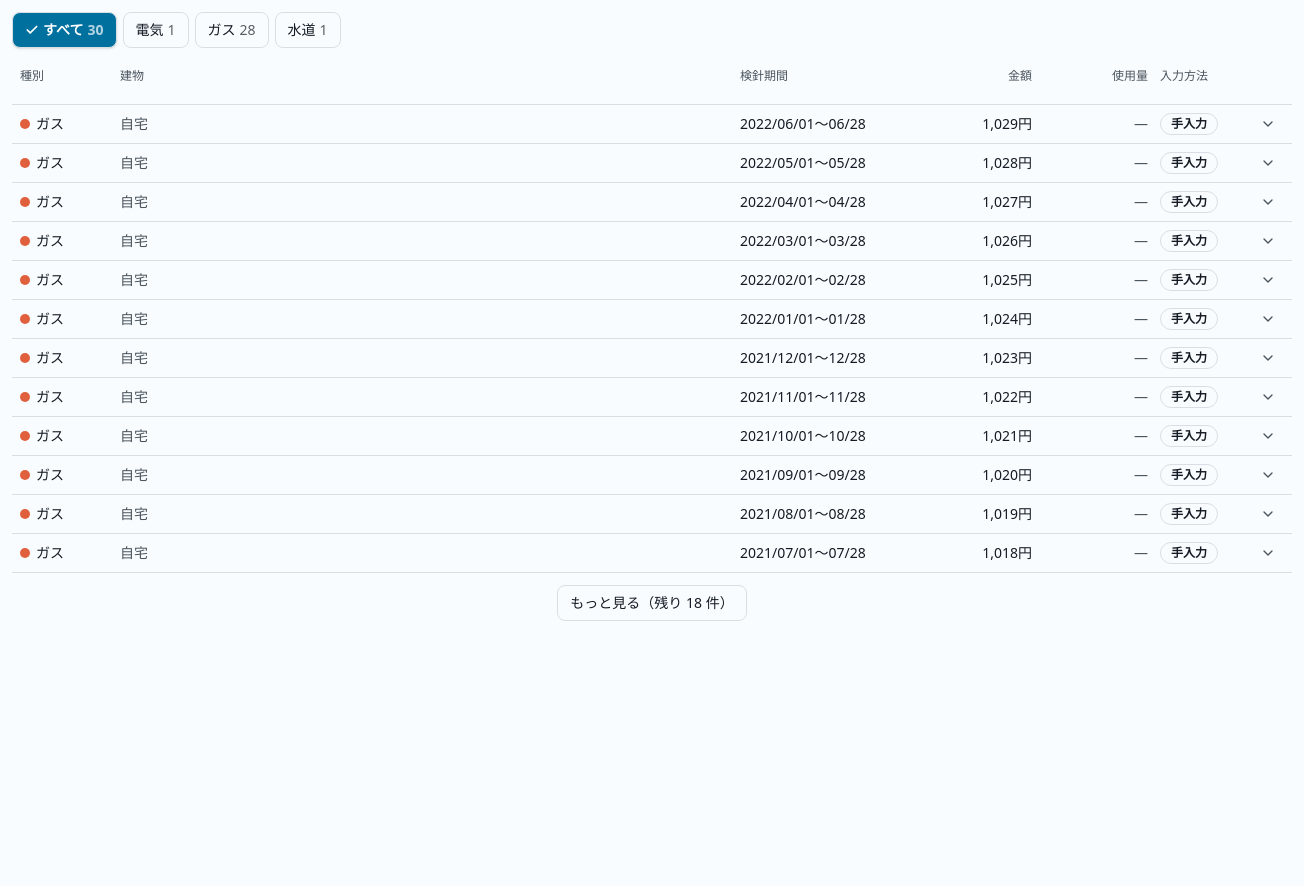
Test: RecordList › filters by utility with the counts on the chips and resets paging (SHIG 22, 12)
Expected: the element named "種別で絞り込む" is shown, top-left (12, 12), bottom-right (341, 48)
Expected: the button "すべて 30" is shown, top-left (12, 12), bottom-right (116, 48)
Click the button "水道 1". click: (308, 30)
box: top-left (274, 12), bottom-right (340, 48)
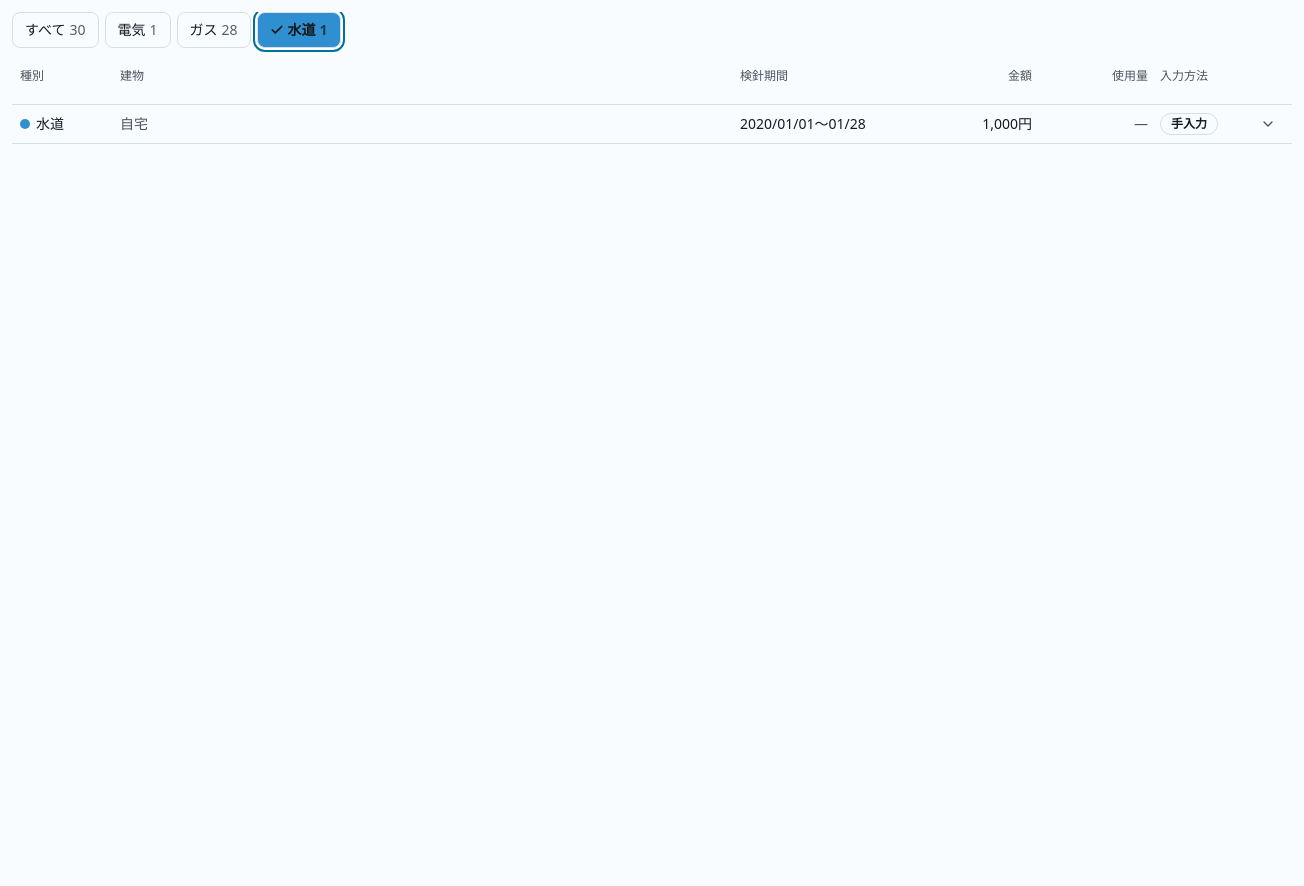
Result: the number of buttons named " を編集" is 1 at top-left (12, 105), bottom-right (1292, 143)
Result: the button named " を編集" shows "水道" at top-left (12, 105), bottom-right (1292, 143)
Result: the button "もっと見る" is gone
// A filter with nothing behind it says so instead of showing an empty list.
Click the button "ガス 28". click: (214, 30)
box: top-left (176, 12), bottom-right (250, 48)
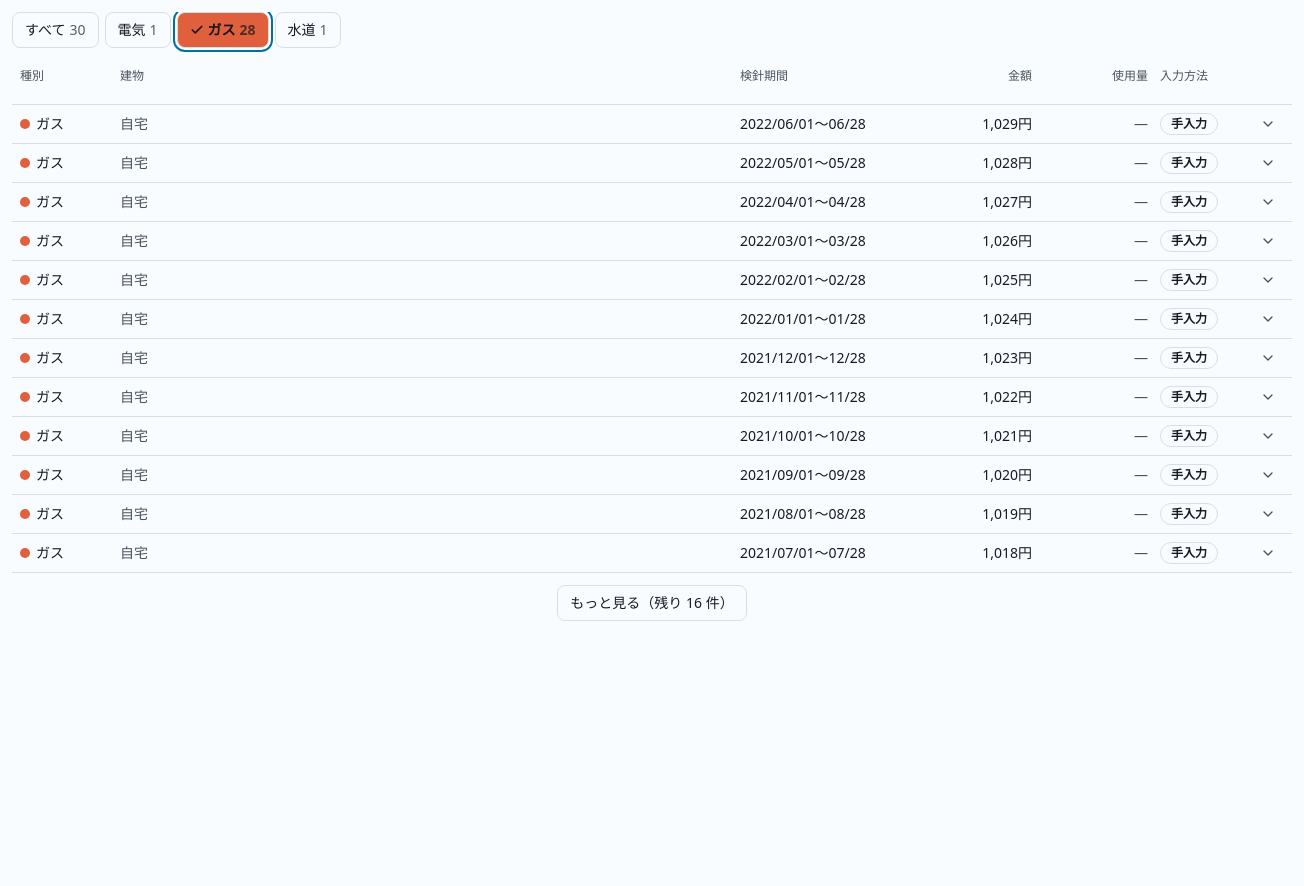
Click the button "もっと見る（残り 16 件）". click: (652, 603)
box: top-left (557, 585), bottom-right (747, 621)
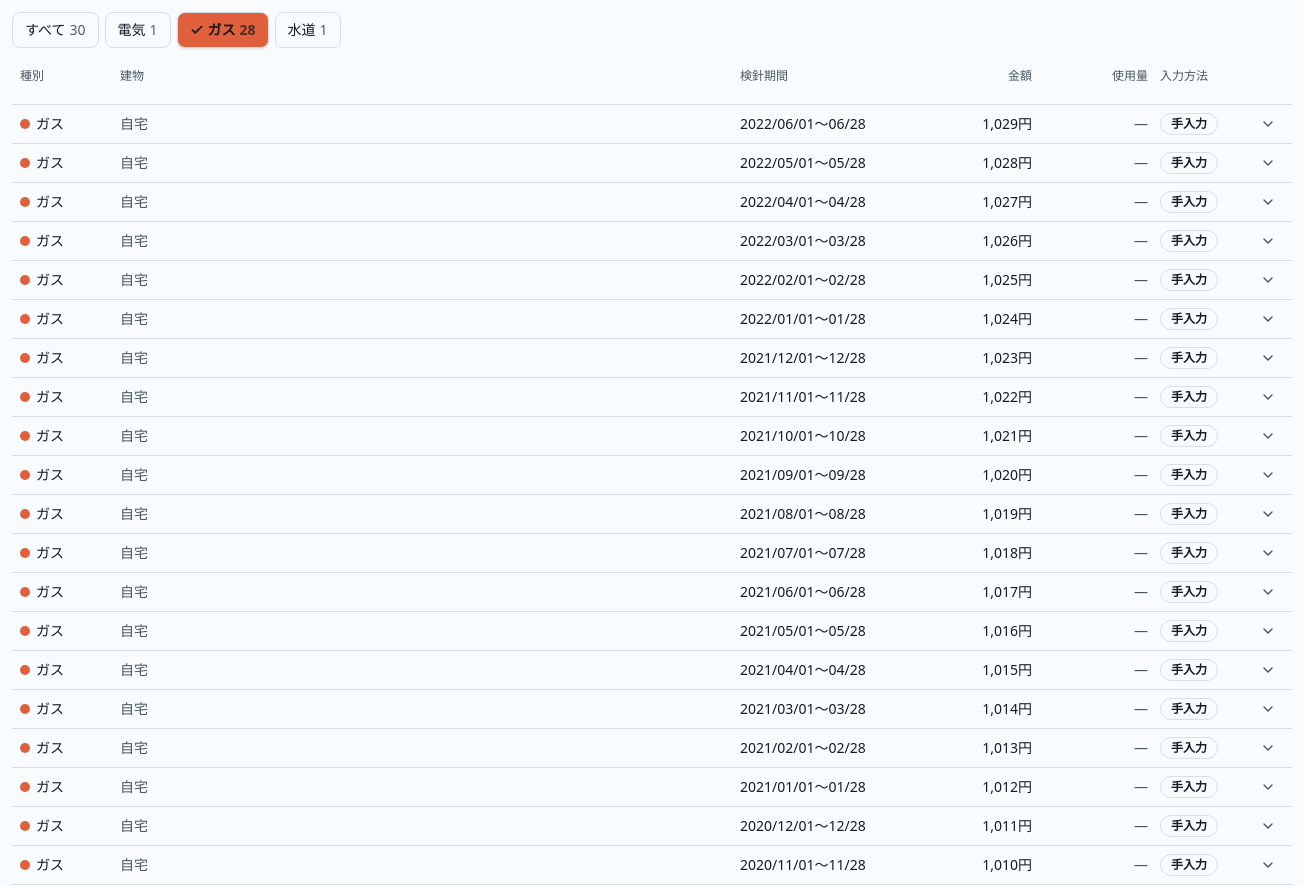
Click the button "電気 1". click: (138, 30)
box: top-left (104, 12), bottom-right (170, 48)
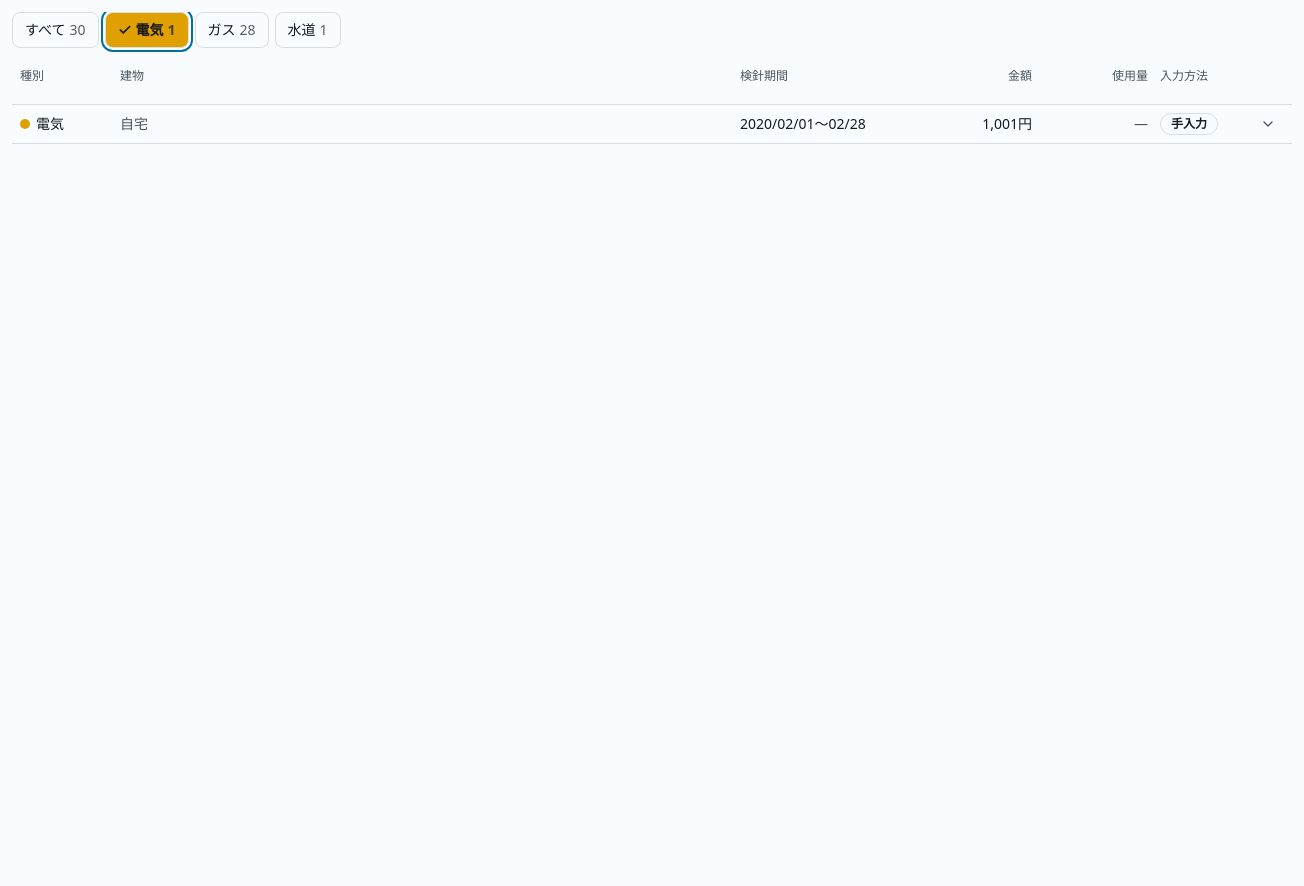
Result: the number of buttons named " を編集" is 1 at top-left (12, 105), bottom-right (1292, 143)
Click the button "ガス 28". click: (232, 30)
box: top-left (194, 12), bottom-right (268, 48)
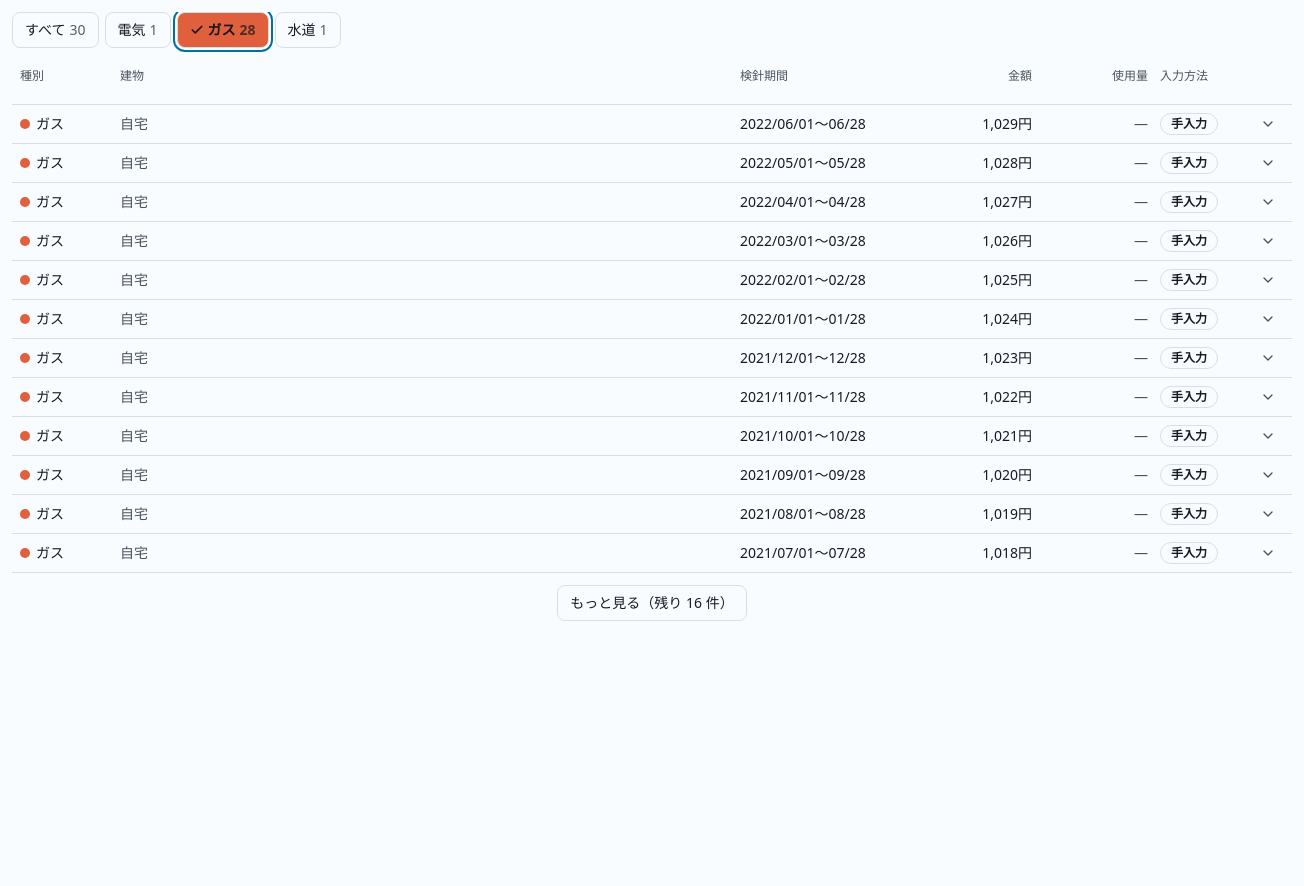
Result: the number of buttons named " を編集" is 12
